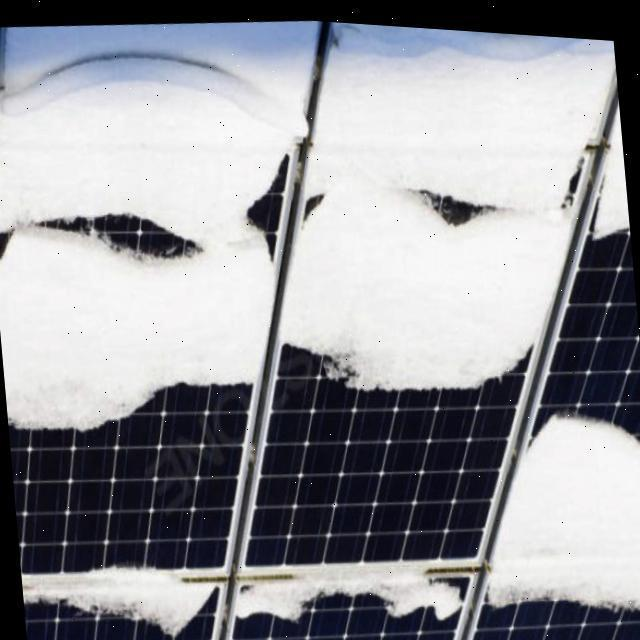Anomaly Solar Panel: (0, 16, 640, 640)
Snow: (0, 16, 319, 435), (272, 17, 613, 389), (481, 403, 640, 608), (19, 549, 217, 640), (236, 560, 465, 617), (592, 96, 630, 242)
